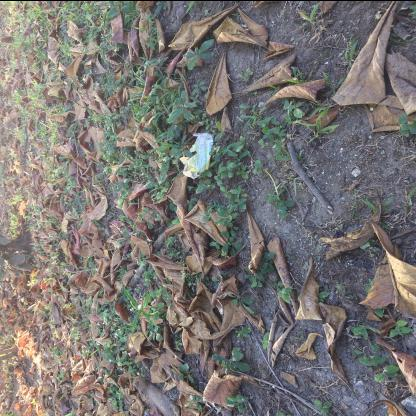plastik: (183, 132, 214, 178)
